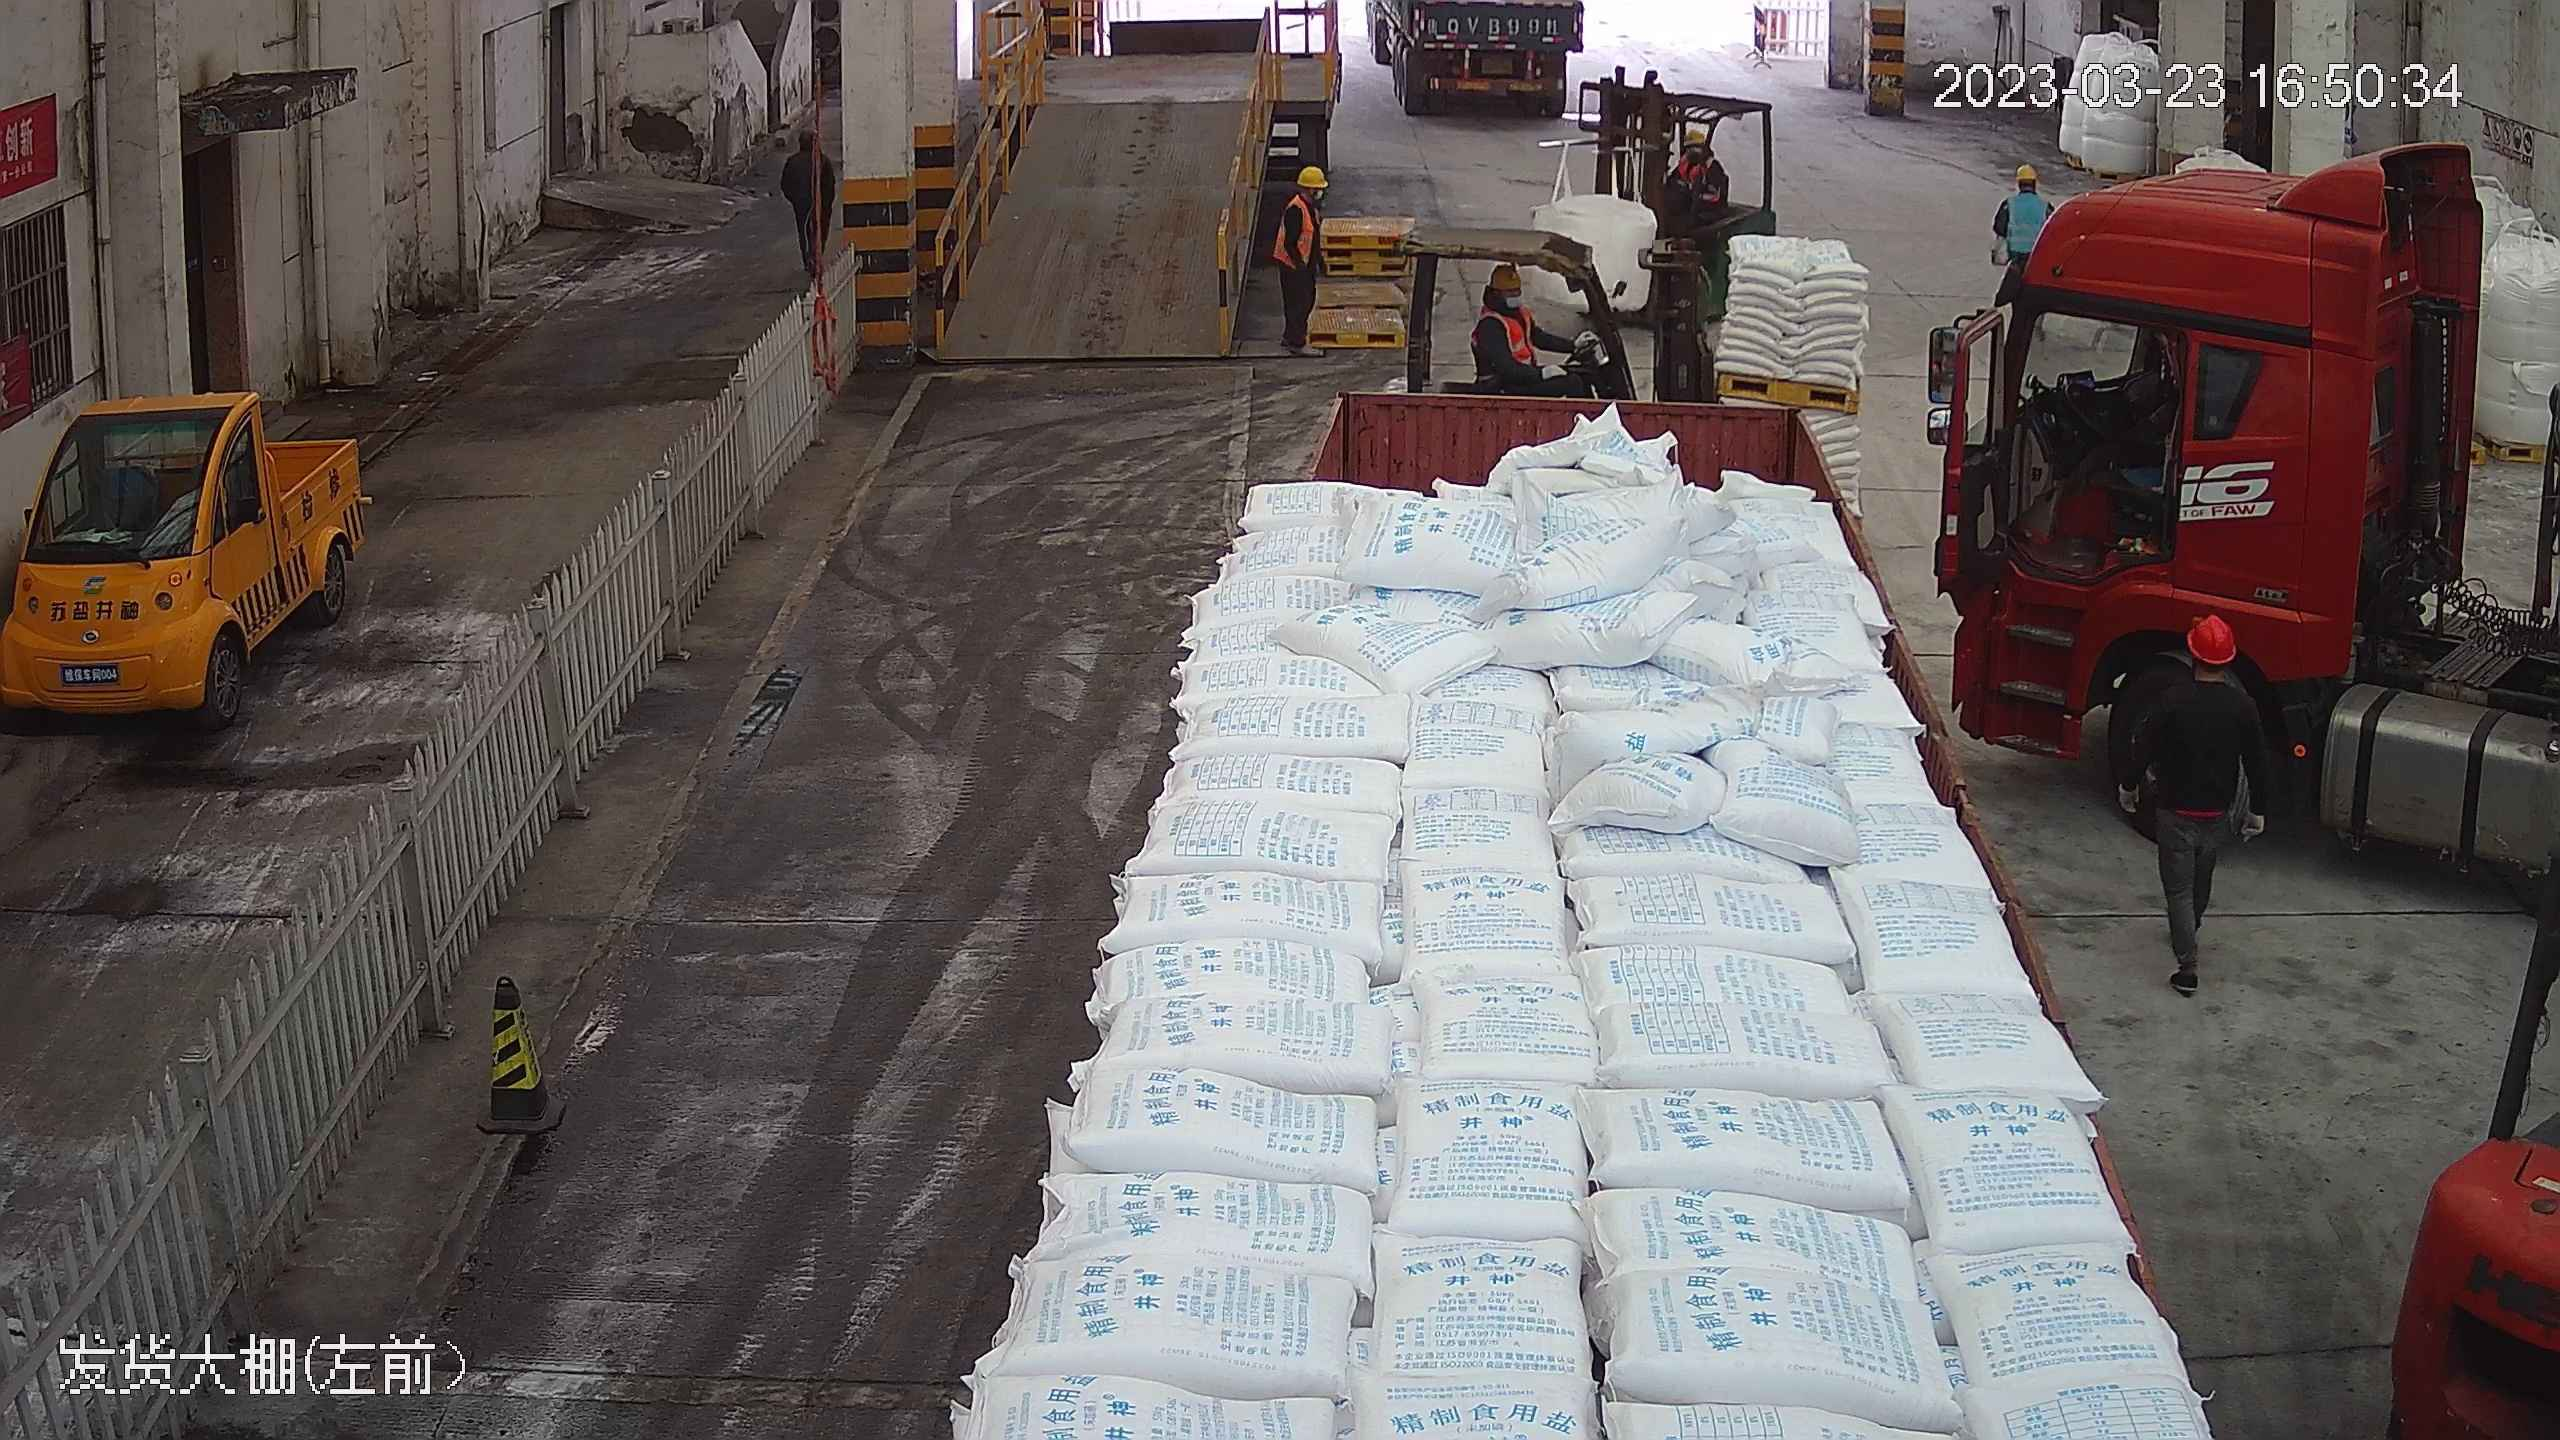head: (2155, 614, 2267, 723), (1474, 258, 1561, 381), (1475, 261, 1537, 337), (1994, 157, 2052, 230), (1273, 161, 1329, 225), (1669, 125, 1718, 176)
helmet: (2186, 612, 2237, 664), (1489, 260, 1523, 286), (1294, 162, 1326, 186), (1681, 121, 1709, 142), (2016, 161, 2037, 180)
people: (2121, 607, 2275, 999), (1261, 160, 1329, 352), (1472, 256, 1562, 387)
truck: (1049, 225, 2160, 1439)
